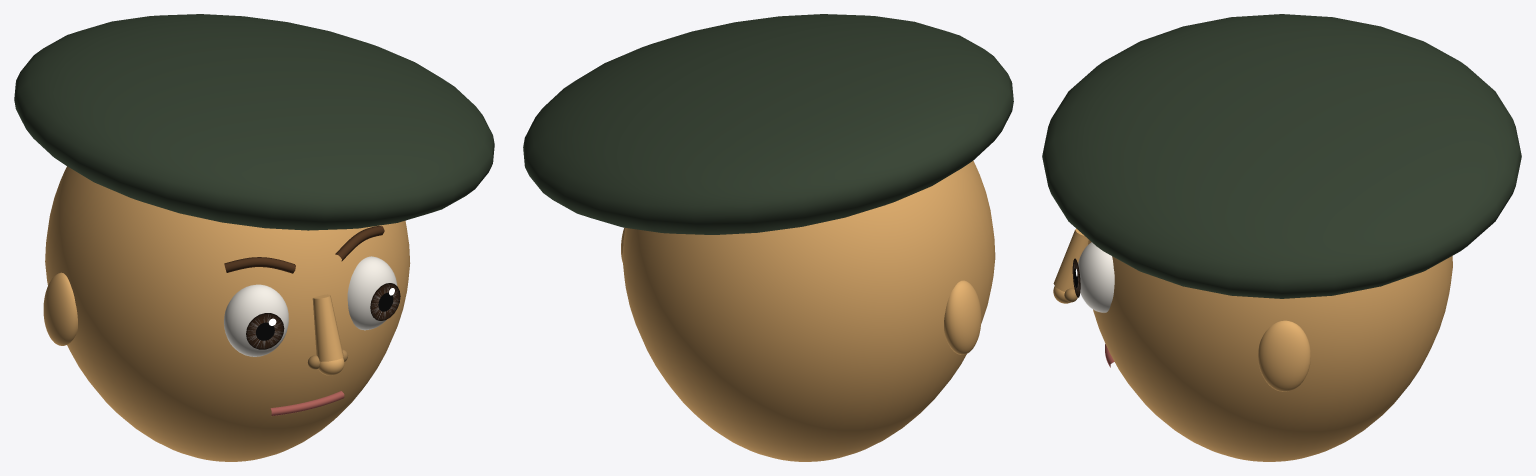
Rendered from 10-beret.glb.
The picture shows the model from 3 angles, left to right: view 1: azimuth 30°, elevation 25°; view 2: azimuth 150°, elevation 25°; view 3: azimuth 270°, elevation 25°; orthographic projection. The views are drawn at different scales.
Bounding box in the file's own units: 0.3757 × 0.3274 × 0.38.
Materials: 10 (1 with a texture image).
